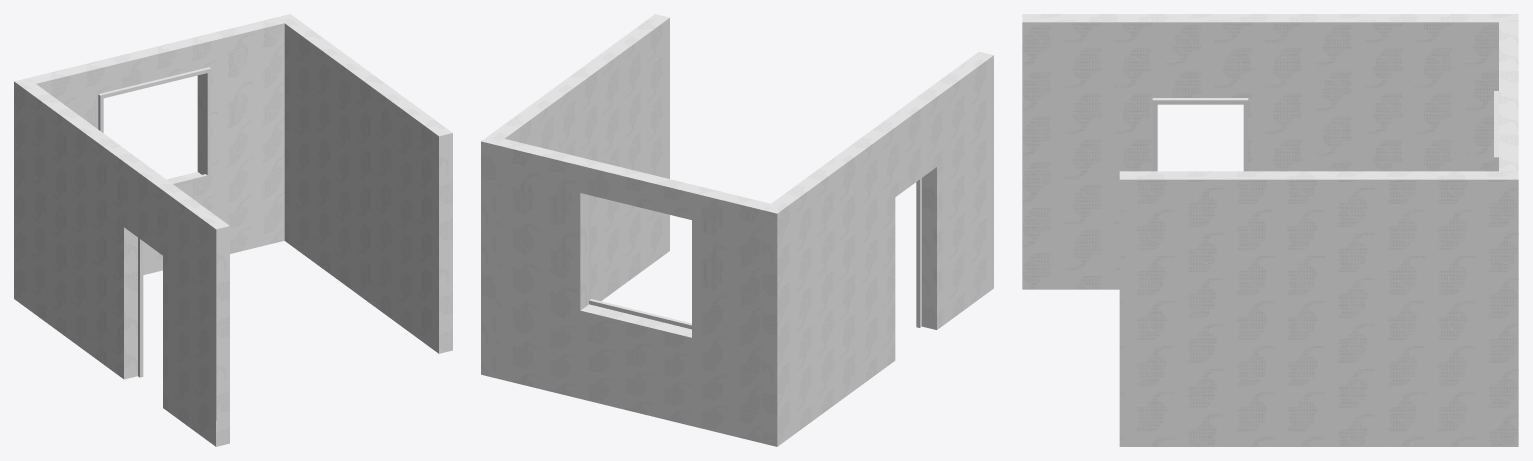
The model's file is scene revue 2.fbx.
3 views of the same model, side by side, from view 1: azimuth 30°, elevation 25°; view 2: azimuth 150°, elevation 25°; view 3: azimuth 270°, elevation 25° (orthographic). The views are drawn at different scales.
Visible parts, largest first — view 1: Bureau_A043, Cadre_fenetre; view 2: Bureau_A043, Cadre_fenetre; view 3: Bureau_A043.
Part boxes in pixels (left/top/right/bottom): Bureau_A043: left=14, top=14, right=452, bottom=446; Cadre_fenetre: left=98, top=67, right=211, bottom=186; Bureau_A043: left=481, top=14, right=993, bottom=446; Cadre_fenetre: left=589, top=195, right=691, bottom=329; Bureau_A043: left=1022, top=14, right=1518, bottom=446.
Bounding box in the file's own units: 399 × 300 × 505.
Materials: 2 (1 with a texture image).
